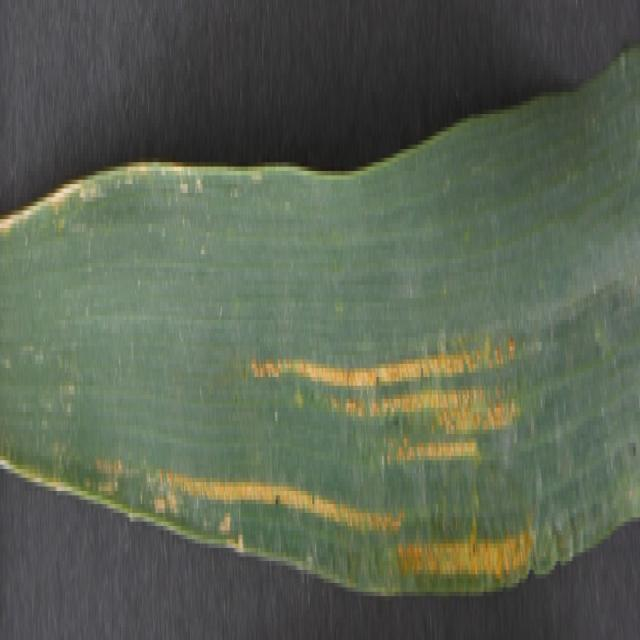leaf rust: (226, 272, 574, 631)
